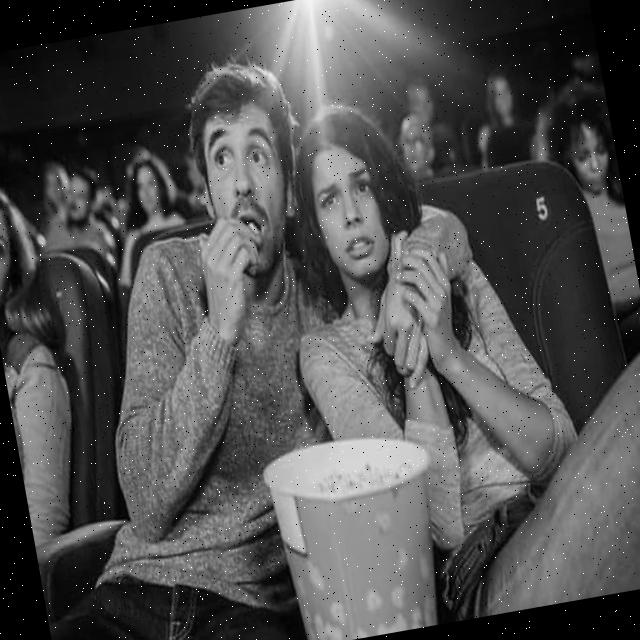Fear: (197, 104, 297, 279), (307, 138, 392, 284)
